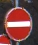No entry: (5, 5, 33, 40)
